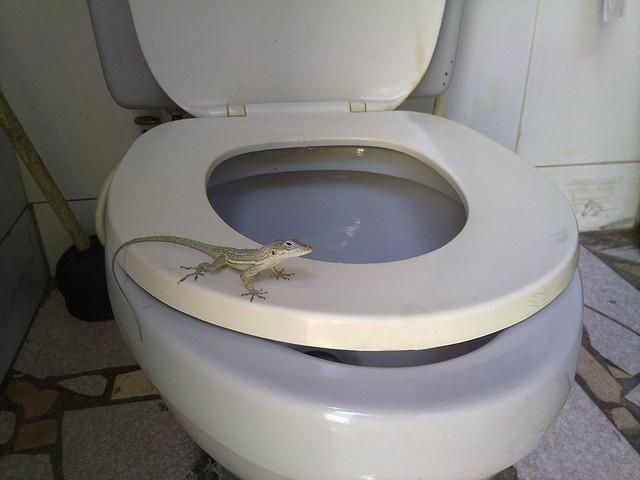Sanitario: (86, 7, 590, 479)
